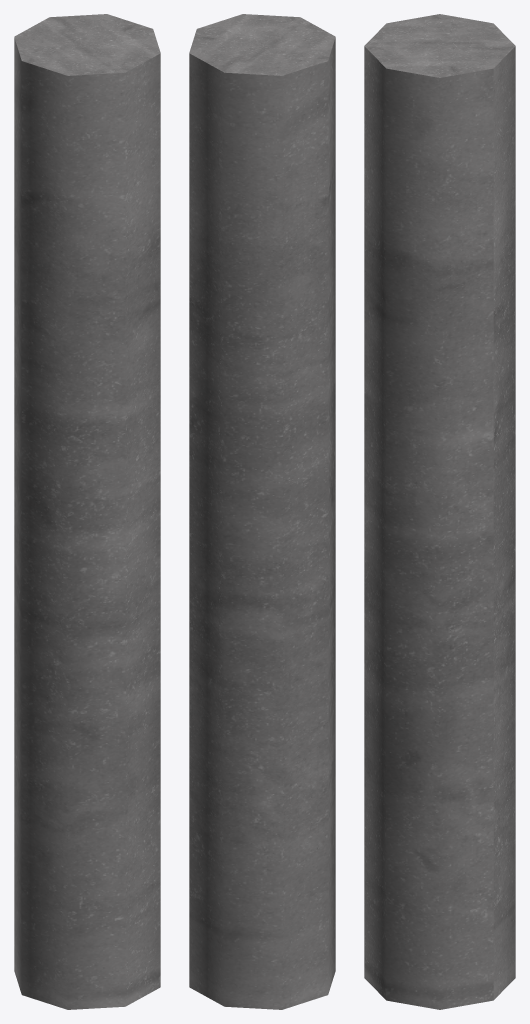
The model's file is Pillar.fbx.
The picture shows the model from 3 angles, left to right: view 1: azimuth 30°, elevation 25°; view 2: azimuth 150°, elevation 25°; view 3: azimuth 270°, elevation 25°; orthographic projection.
Parts seen in each view (by area): view 1: Pillar; view 2: Pillar; view 3: Pillar.
Boxes of the visible parts, x1,y1,x2,y2 form: Pillar: (14, 14, 160, 1009); Pillar: (189, 14, 335, 1009); Pillar: (364, 14, 515, 1009).
Bounding box in the file's own units: 33.86 × 230 × 33.86.
